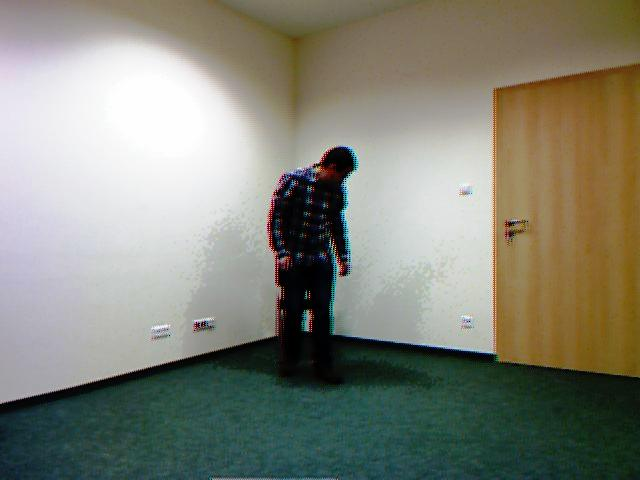walking: (269, 129, 359, 391)
